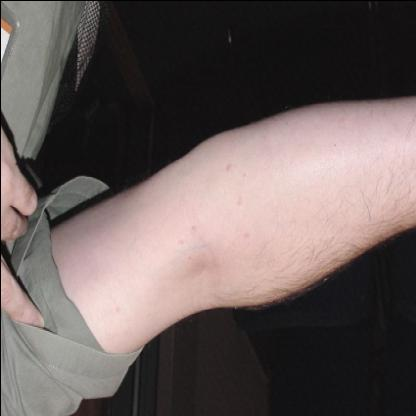Bed Bug: (223, 163, 249, 180), (109, 302, 123, 324), (236, 192, 246, 212), (175, 236, 186, 253), (188, 220, 199, 236), (242, 230, 251, 246)
